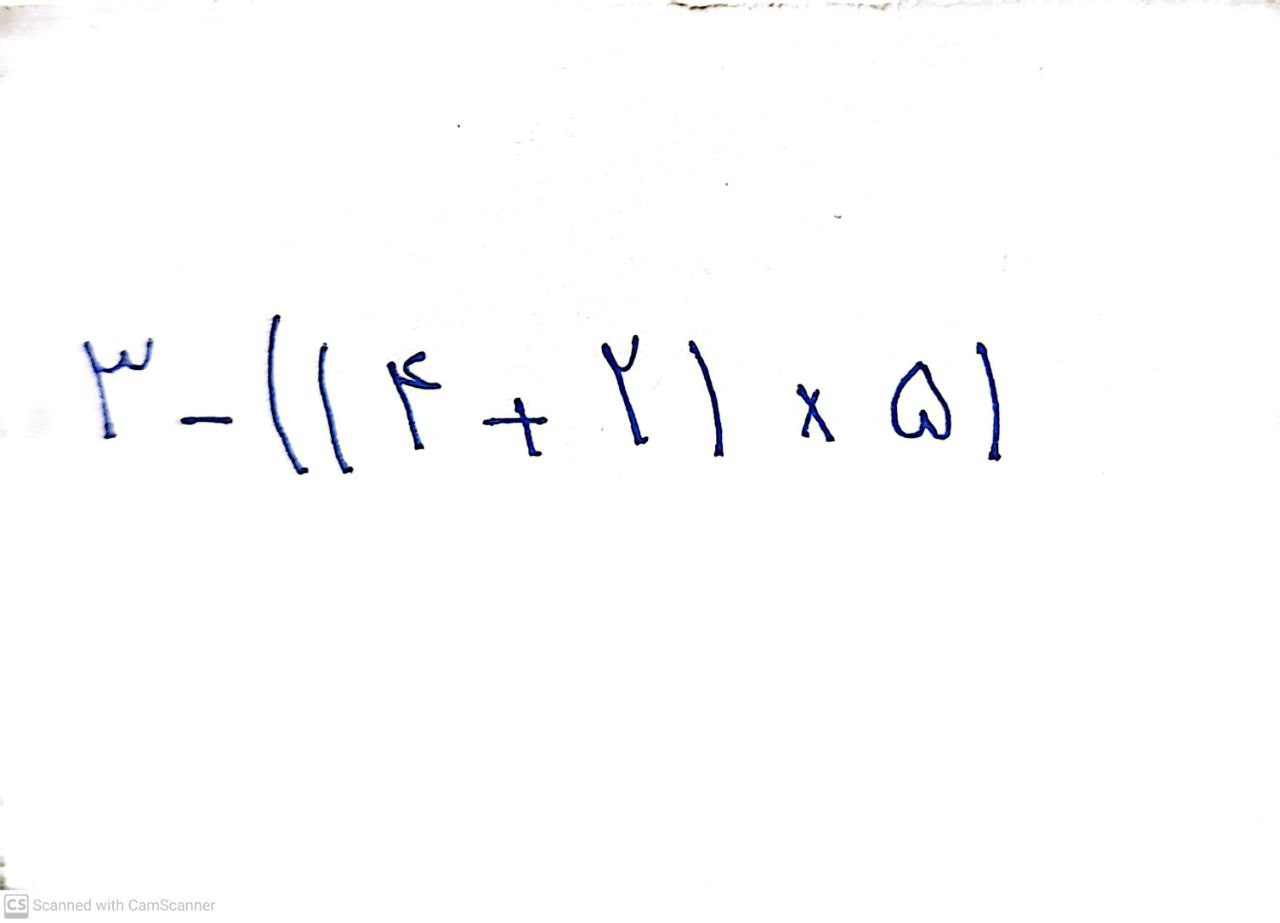character: (263, 315, 309, 475), (81, 339, 154, 438), (386, 351, 441, 451), (601, 336, 648, 446), (318, 344, 357, 475), (889, 360, 952, 440), (684, 341, 724, 457), (482, 399, 546, 456), (973, 343, 1001, 462), (794, 385, 834, 443), (176, 414, 234, 428)
